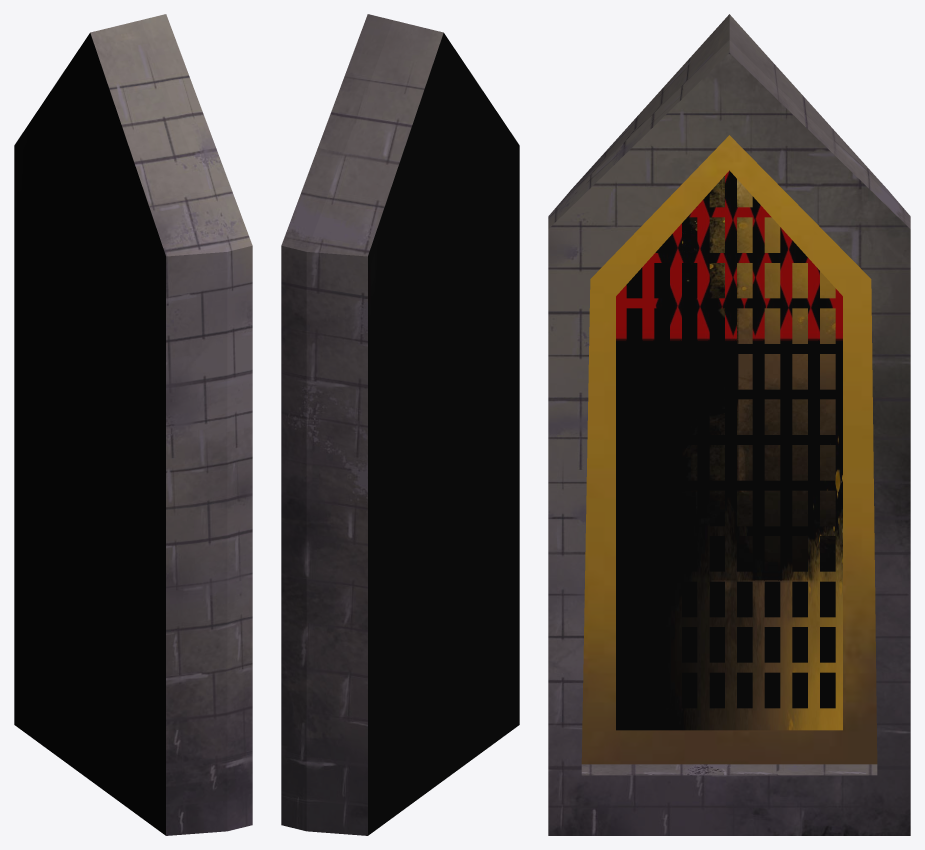
File: window.fbx
The picture shows the model from 3 angles, left to right: view 1: azimuth 30°, elevation 25°; view 2: azimuth 150°, elevation 25°; view 3: azimuth 270°, elevation 25°; orthographic projection. The views are drawn at different scales.
Parts seen in each view (by area): view 1: Plane; view 2: Plane; view 3: Plane, Plane.001, Plane.003.
Boxes of the visible parts, box(x1,y1,x2,y2) form: Plane: box(14, 14, 252, 835); Plane: box(281, 14, 519, 835); Plane: box(548, 14, 910, 835); Plane.001: box(616, 170, 842, 730); Plane.003: box(626, 176, 835, 708).
Bounding box in the file's own units: 0.4683 × 4.41 × 1.85.
